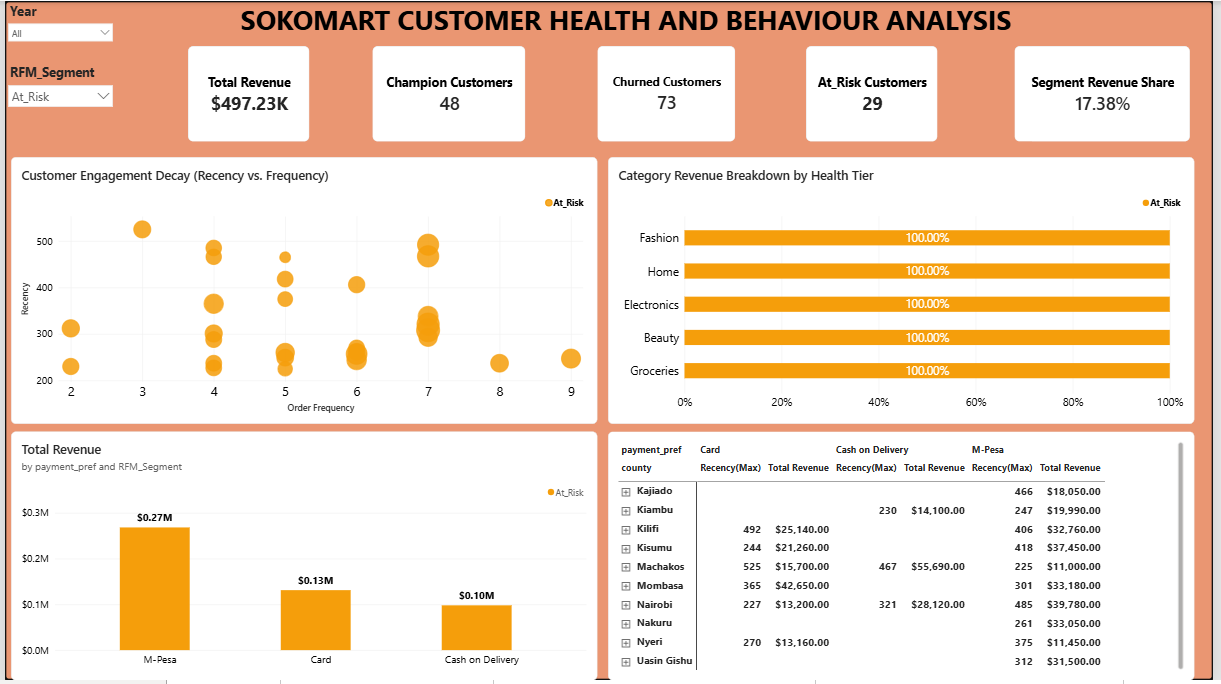

This screenshot's page, from the dashboard's own definition file:
{"tool":"powerbi","page":{"name":"Customer Health and Behaviour","canvas":[1920,1080],"ordinal":2},"visuals":[{"type":"textbox","box":[10,0,40,100],"z":0},{"type":"textbox","box":[343.6,0,1288.4,71.6],"z":1000},{"type":"cardVisual","fields":{"Data":["My_Measure.Revenue"]},"box":[291.1,71.6,193.3,152.7],"z":2000},{"type":"cardVisual","fields":{"Data":["My_Measure.Champion customers"]},"box":[584.5,71.6,243.4,152.7],"z":3000},{"type":"cardVisual","fields":{"Data":["My_Measure.Churned and At Risk Customers"]},"box":[942.4,71.6,219.5,152.7],"z":4000},{"type":"cardVisual","fields":{"Data":["My_Measure.At_Risk Customers"]},"box":[1274.1,71.6,210,152.7],"z":5000},{"type":"cardVisual","fields":{"Data":["My_Measure.Segment Revenue Share"]},"box":[1605.7,71.6,279.2,152.7],"z":6000},{"type":"slicer","fields":{"Values":["soko_mart customers.RFM_Segment"]},"box":[0,100.2,176.6,81.1],"z":7000},{"type":"scatterChart","title":"Customer Engagement Decay (Recency vs. Frequency)","fields":{"Series":["soko_mart customers.RFM_Segment"],"Size":["Sum(soko_mart customers.Monetary)"],"X":["soko_mart customers.Frequency"],"Y":["soko_mart customers.Recency"]},"box":[9.5,248.1,932.9,424.7],"z":8000},{"type":"hundredPercentStackedBarChart","title":"Category Revenue Breakdown by Health Tier","fields":{"Category":["soko_mart products.category"],"Series":["soko_mart customers.RFM_Segment"],"Y":["My_Measure.Revenue"]},"box":[959.1,248.1,932.9,424.7],"z":9000},{"type":"clusteredColumnChart","fields":{"Category":["soko_mart customers.payment_pref"],"Series":["soko_mart customers.RFM_Segment"],"Y":["My_Measure.Revenue"]},"box":[9.5,684.8,932.9,396.1],"z":10000},{"type":"pivotTable","fields":{"Columns":["soko_mart customers.payment_pref"],"Rows":["soko_mart customers.county","soko_mart customers.customer_name"],"Values":["Max(soko_mart customers.Recency)","My_Measure.Revenue"]},"box":[959.1,684.8,932.9,396.1],"z":11000},{"type":"slicer","fields":{"Values":["Date.Year"]},"box":[0,0,176.6,71.6],"z":12000}]}

Visuals, with their boxes in screenshot pixels (x1, y1, x2, y2), scaled from the page's 1920x1080 canvas onto the 1221x684 screenshot:
textbox: 6:0:32:63
textbox: 219:0:1038:45
cardVisual - My_Measure.Revenue: 185:45:308:142
cardVisual - My_Measure.Champion customers: 372:45:526:142
cardVisual - My_Measure.Churned and At Risk Customers: 599:45:739:142
cardVisual - My_Measure.At_Risk Customers: 810:45:944:142
cardVisual - My_Measure.Segment Revenue Share: 1021:45:1199:142
slicer - soko_mart customers.RFM_Segment: 0:63:112:115
"Customer Engagement Decay (Recency vs. Frequency)" scatterChart: 6:157:599:426
"Category Revenue Breakdown by Health Tier" hundredPercentStackedBarChart: 610:157:1203:426
clusteredColumnChart - soko_mart customers.payment_pref x soko_mart customers.RFM_Segment: 6:434:599:683
pivotTable - soko_mart customers.payment_pref x soko_mart customers.county: 610:434:1203:683
slicer - Date.Year: 0:0:112:45
